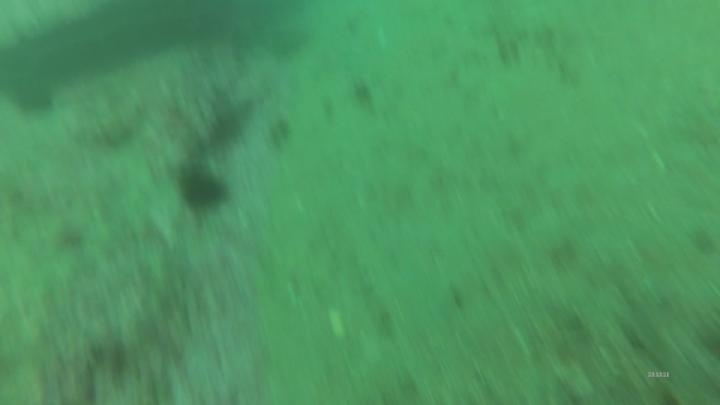echinus: (173, 160, 233, 217), (5, 73, 60, 118)
